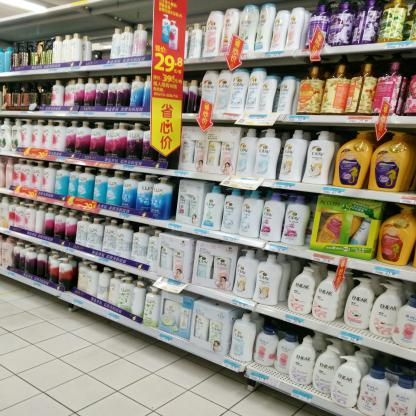Void: (92, 38, 114, 55)
